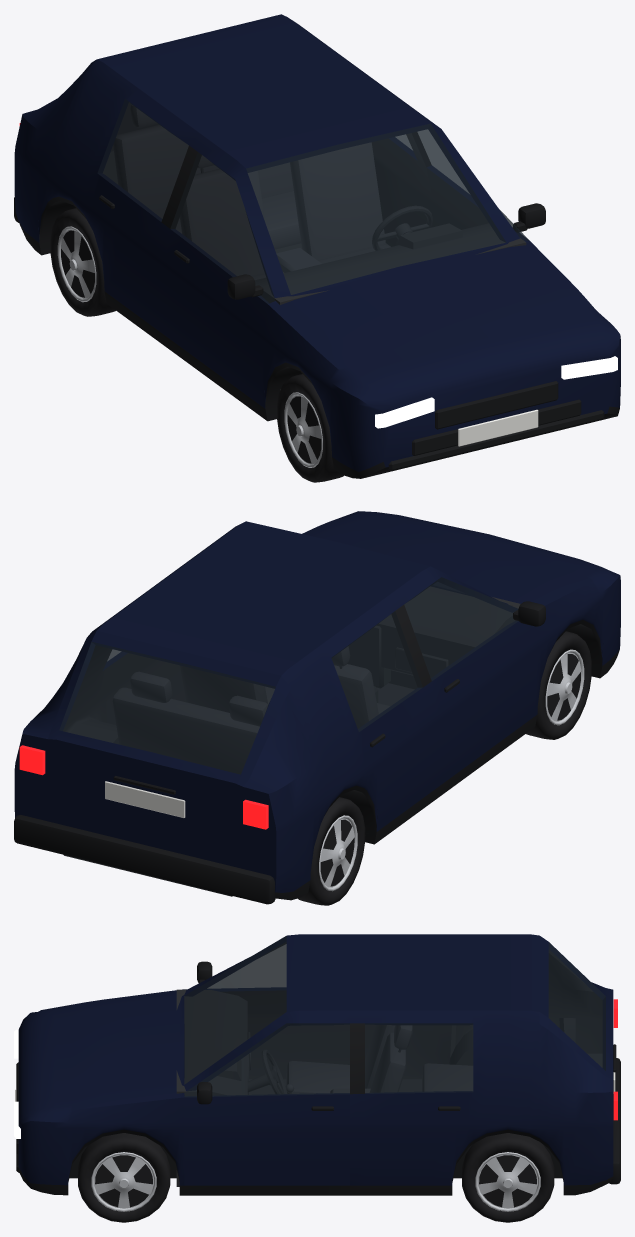
Rendered from car.glb.
The picture shows the model from 3 angles, top to bottom: view 1: azimuth 30°, elevation 25°; view 2: azimuth 150°, elevation 25°; view 3: azimuth 270°, elevation 25°; orthographic projection. The views are drawn at different scales.
Parts seen in each view (by area): view 1: Body, Glass, Interior, Wheel_FR, Wheel_RR, Door_Driver, Headlights, SteeringWheel; view 2: Body, Trunk, Interior, Glass, Wheel_RR, Wheel_FR, Taillights, GloveBox; view 3: Body, Door_Driver, Glass, Interior, Wheel_RL, Wheel_FL, Trunk, SteeringWheel.
Boxes of the visible parts, left/top/right/bottom form: Body: left=14, top=14, right=620, bottom=478; Glass: left=97, top=99, right=505, bottom=303; Interior: left=103, top=105, right=526, bottom=390; Wheel_FR: left=277, top=374, right=343, bottom=482; Wheel_RR: left=50, top=208, right=115, bottom=316; Door_Driver: left=418, top=129, right=545, bottom=240; Headlights: left=375, top=356, right=617, bottom=428; SteeringWheel: left=372, top=205, right=432, bottom=250; Body: left=14, top=511, right=620, bottom=904; Trunk: left=48, top=630, right=291, bottom=840; Interior: left=63, top=586, right=520, bottom=896; Glass: left=108, top=577, right=518, bottom=731; Wheel_RR: left=298, top=797, right=365, bottom=905; Wheel_FR: left=526, top=631, right=591, bottom=739; Taillights: left=19, top=745, right=268, bottom=829; GloveBox: left=395, top=647, right=448, bottom=677; Body: left=15, top=934, right=620, bottom=1195; Door_Driver: left=184, top=1023, right=349, bottom=1185; Glass: left=184, top=936, right=473, bottom=1093; Interior: left=176, top=989, right=602, bottom=1186; Wheel_RL: left=462, top=1133, right=554, bottom=1222; Wheel_FL: left=78, top=1133, right=170, bottom=1222; Trunk: left=539, top=936, right=616, bottom=1093; SteeringWheel: left=261, top=1049, right=287, bottom=1094.
Size of the model in its own units: 2.04 by 1.45 by 4.03.
